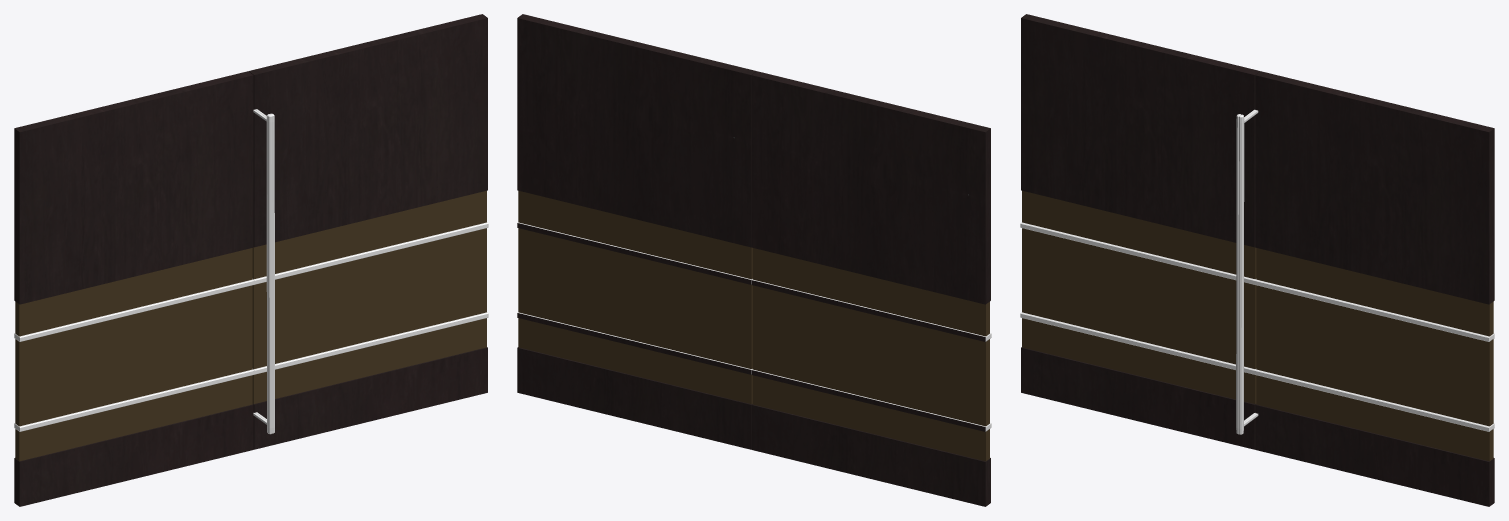
File: Cabinet_ddb3e0e0.obj
3 views of the same model, side by side, from view 1: azimuth 30°, elevation 25°; view 2: azimuth 150°, elevation 25°; view 3: azimuth 330°, elevation 25° (orthographic).
Visible parts, largest first — view 1: RightDoorMesh_02_1f029248, LeftDoorMesh_01_e1ab0c0b, CabineDoorHandle1_(WWW12)_01_0b757848, CabineDoorHandle1_(WWW13)_02_7af2ddac; view 2: RightDoorMesh_02_1f029248, LeftDoorMesh_01_e1ab0c0b; view 3: LeftDoorMesh_01_e1ab0c0b, RightDoorMesh_02_1f029248, CabineDoorHandle1_(WWW13)_02_7af2ddac, CabineDoorHandle1_(WWW12)_01_0b757848.
Boxes of the visible parts, box(x1,y1,x2,y2) form: RightDoorMesh_02_1f029248: box(14, 71, 254, 506); LeftDoorMesh_01_e1ab0c0b: box(248, 14, 488, 449); CabineDoorHandle1_(WWW12)_01_0b757848: box(253, 109, 272, 434); CabineDoorHandle1_(WWW13)_02_7af2ddac: box(255, 109, 274, 433); RightDoorMesh_02_1f029248: box(751, 71, 991, 506); LeftDoorMesh_01_e1ab0c0b: box(517, 14, 756, 449); LeftDoorMesh_01_e1ab0c0b: box(1254, 71, 1494, 506); RightDoorMesh_02_1f029248: box(1020, 14, 1260, 449); CabineDoorHandle1_(WWW13)_02_7af2ddac: box(1238, 110, 1258, 434); CabineDoorHandle1_(WWW12)_01_0b757848: box(1236, 109, 1255, 434).
Bounding box in the file's own units: 0.982 × 0.75 × 0.0842.
